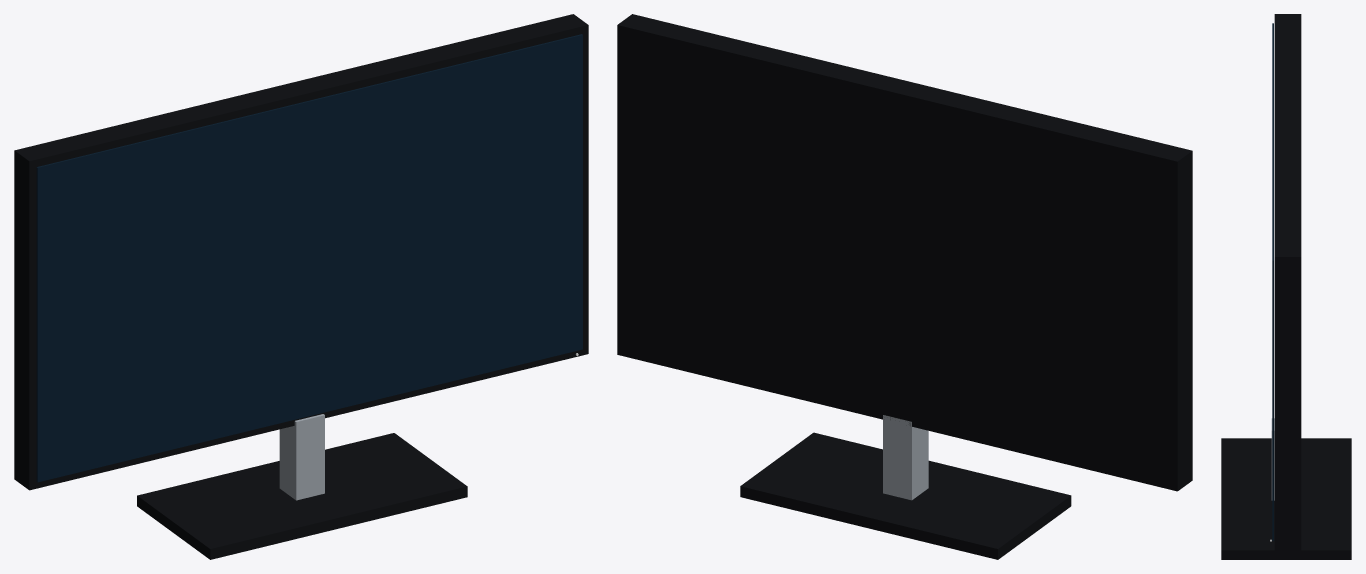
The picture shows the model from 3 angles, left to right: view 1: azimuth 30°, elevation 25°; view 2: azimuth 150°, elevation 25°; view 3: azimuth 270°, elevation 25°; orthographic projection. The views are drawn at different scales.
Size of the model in its own units: 0.97 by 0.6856 by 0.22.
